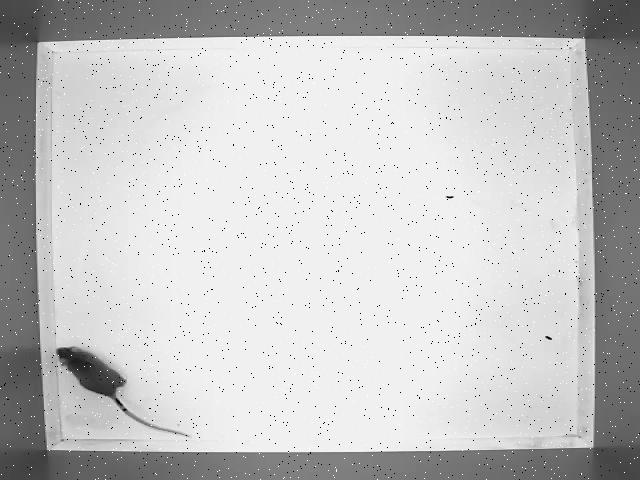Tikus: (54, 343, 194, 440)
